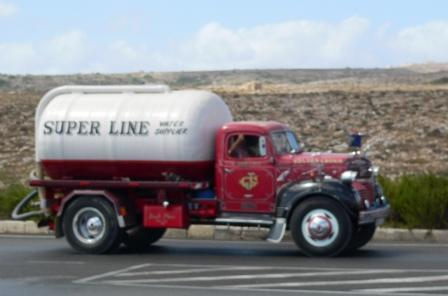truck: (11, 84, 393, 259)
